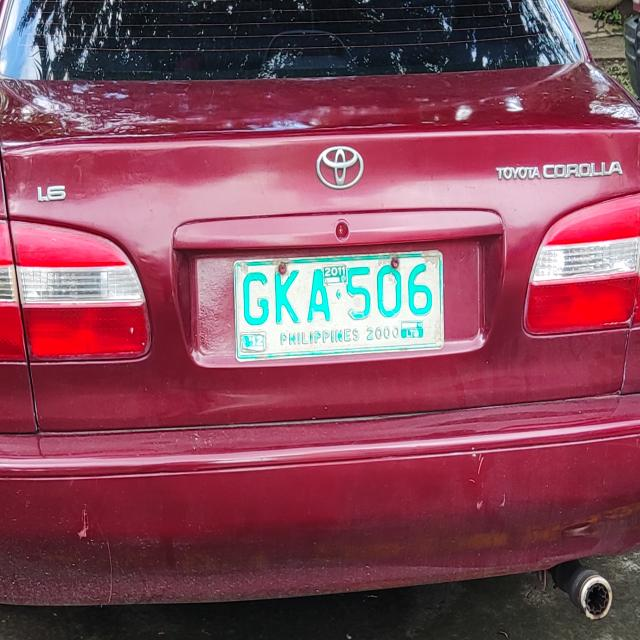plate: (232, 246, 446, 364)
